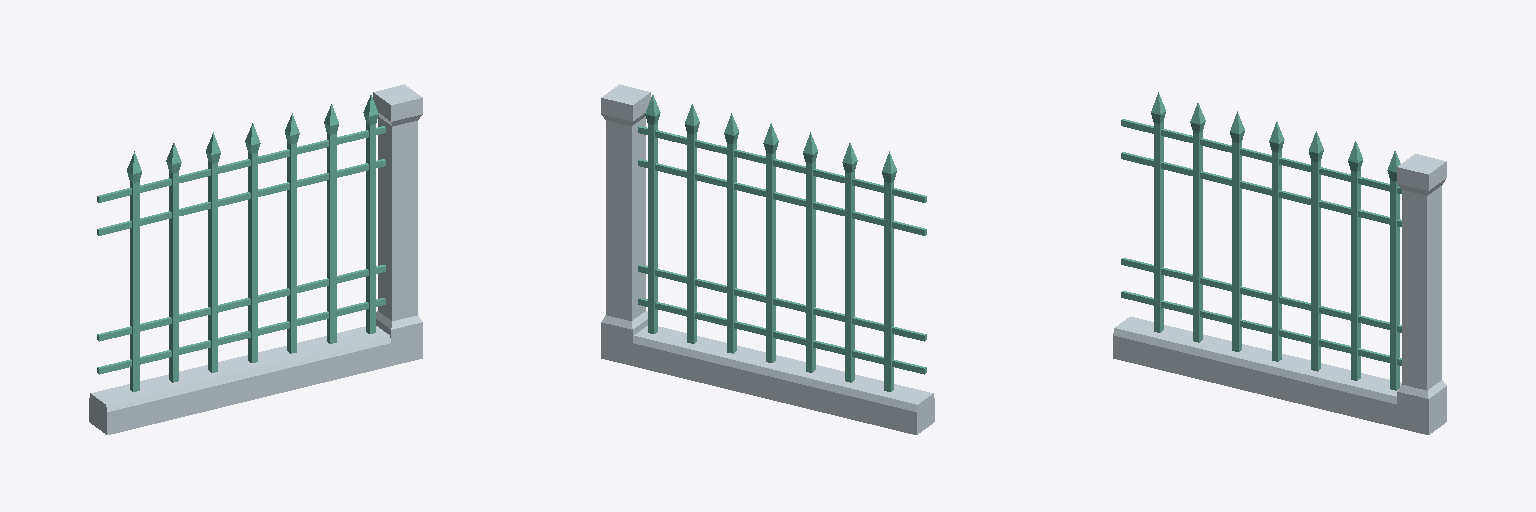
The model's file is fenceIronBorderPillar.obj.
3 renders of one model, left to right at view 1: azimuth 30°, elevation 25°; view 2: azimuth 150°, elevation 25°; view 3: azimuth 330°, elevation 25°, orthographic.
Parts seen in each view (by area): view 1: fenceIronBorderPillar, bar 33, bar 30, bar 34, bar 27, bar 29, bar 32, bar 28, bar 25, bar 24, bar 26, bar 31; view 2: fenceIronBorderPillar, bar 33, bar 30, bar 34, bar 27, bar 29, bar 32, bar 28, bar 25, bar 24, bar 26, bar 31; view 3: fenceIronBorderPillar, bar 28, bar 32, bar 34, bar 27, bar 33, bar 30, bar 29, bar 24, bar 26, bar 31, bar 25.
Boxes of the visible parts, box(x1,y1,x2,y2) form: fenceIronBorderPillar: box(89, 84, 422, 434); bar 33: box(127, 151, 141, 391); bar 30: box(324, 104, 338, 343); bar 34: box(245, 123, 260, 362); bar 27: box(166, 143, 181, 382); bar 29: box(363, 95, 378, 333); bar 32: box(206, 132, 220, 372); bar 28: box(285, 113, 299, 353); bar 25: box(97, 126, 385, 202); bar 24: box(97, 159, 385, 235); bar 26: box(97, 265, 385, 341); bar 31: box(97, 298, 385, 374); fenceIronBorderPillar: box(601, 84, 934, 434); bar 33: box(882, 151, 896, 391); bar 30: box(685, 104, 699, 343); bar 34: box(763, 123, 778, 362); bar 27: box(842, 143, 857, 382); bar 29: box(645, 95, 660, 333); bar 32: box(803, 132, 817, 372); bar 28: box(724, 113, 738, 353); bar 25: box(638, 126, 926, 202); bar 24: box(638, 159, 926, 235); bar 26: box(638, 265, 926, 341); bar 31: box(638, 298, 926, 374); fenceIronBorderPillar: box(1113, 154, 1446, 434); bar 28: box(1309, 131, 1323, 371); bar 32: box(1230, 111, 1244, 351); bar 34: box(1269, 122, 1284, 361); bar 27: box(1190, 103, 1205, 342); bar 33: box(1151, 92, 1165, 332); bar 30: box(1348, 141, 1362, 380); bar 29: box(1387, 151, 1400, 390); bar 24: box(1121, 152, 1401, 226); bar 26: box(1121, 258, 1401, 332); bar 31: box(1121, 291, 1401, 365); bar 25: box(1121, 119, 1401, 193).
Size of the model in its own units: 10 by 8.14 by 1.